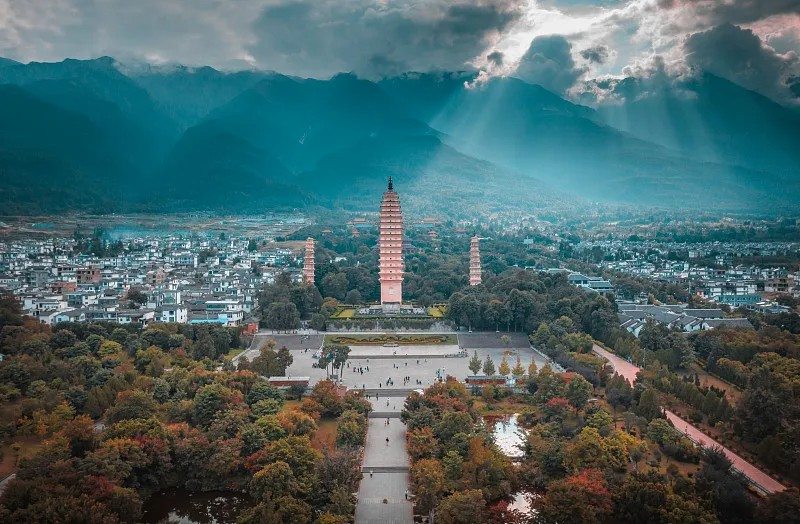ThreePagoda: (377, 176, 405, 305)
